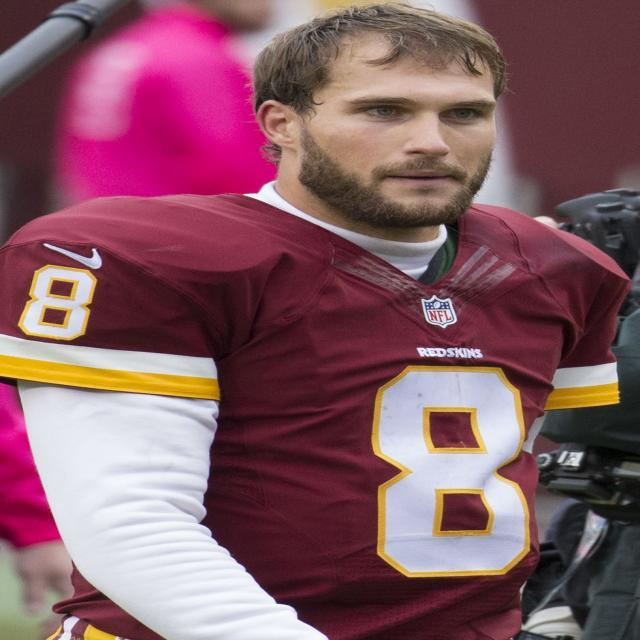Nonhelmet: (242, 0, 520, 243)
